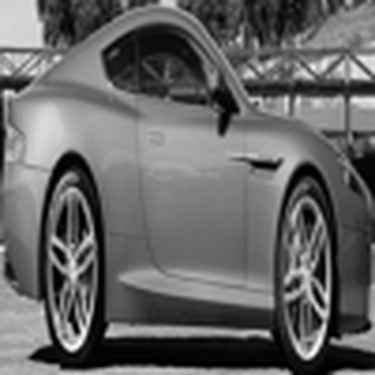car: (5, 5, 365, 372)
